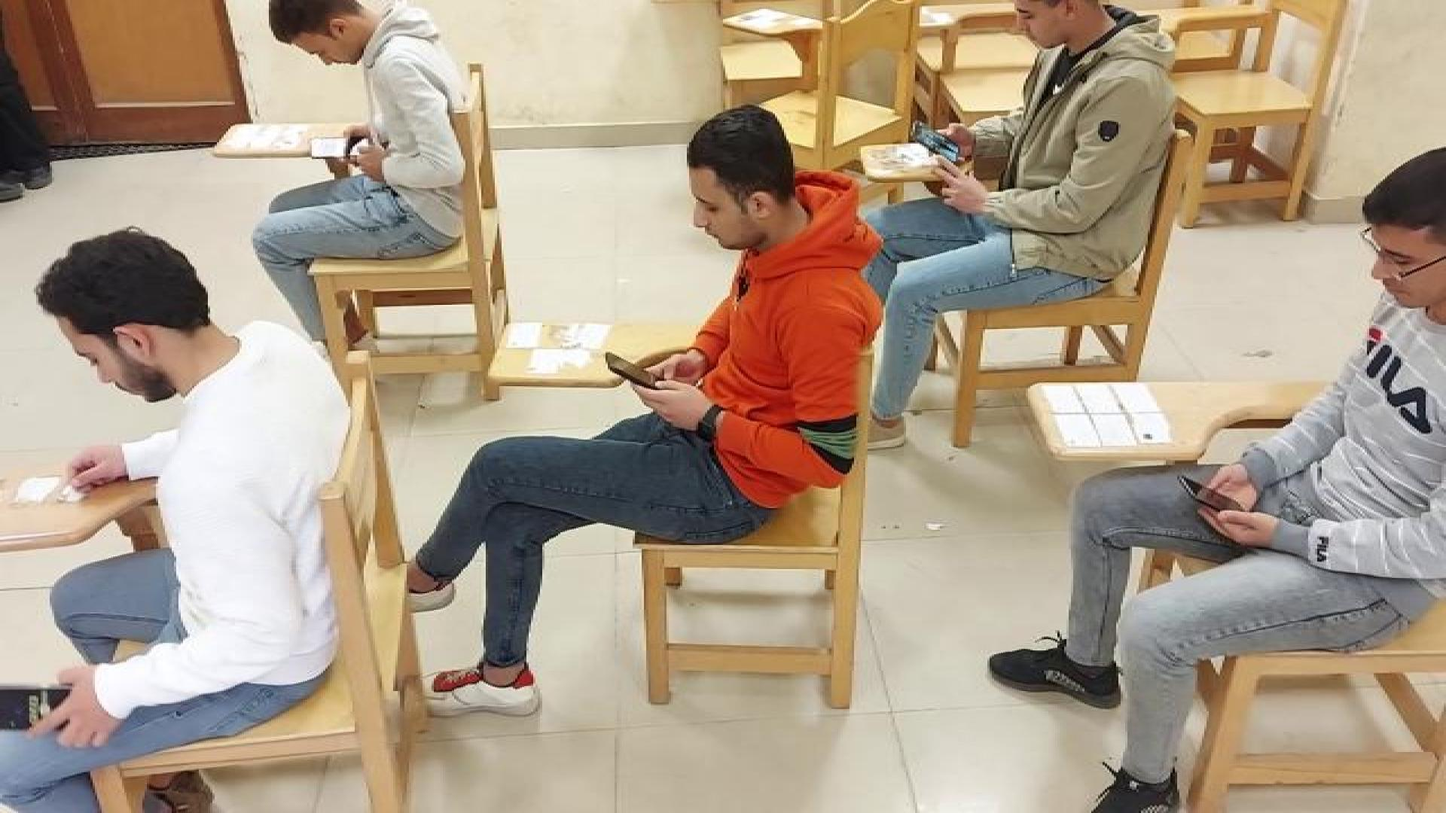phone: (1176, 475, 1246, 511), (908, 120, 960, 162), (602, 352, 659, 385), (307, 137, 368, 158)
